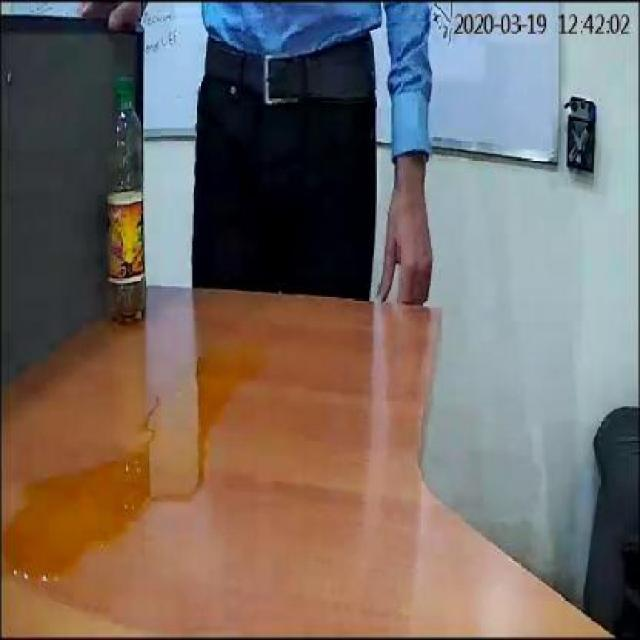spill: (4, 348, 258, 584)
